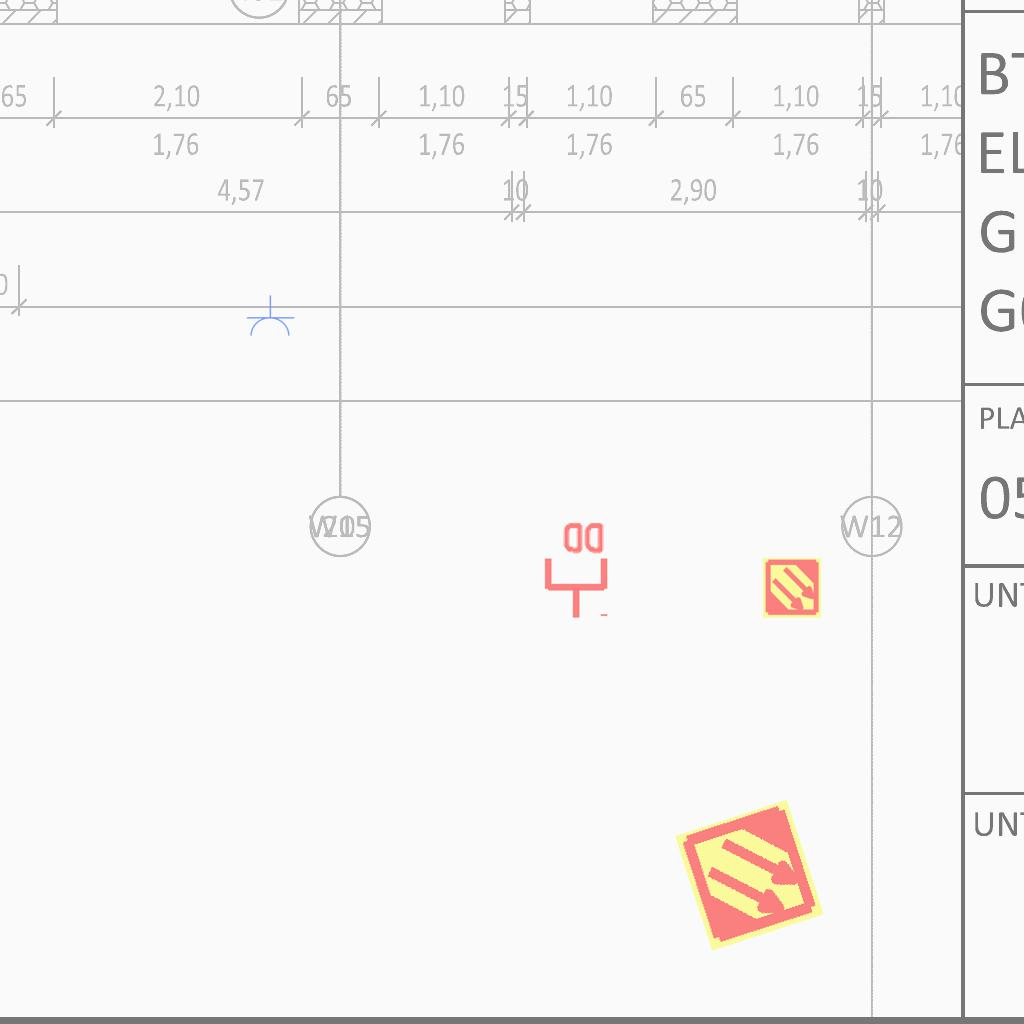ASR_Ansaugrauchmelder: (670, 796, 829, 955), (761, 557, 823, 619)
Datenanschluss_zweifach: (540, 518, 609, 621)
Schukosteckdose_einfach: (245, 295, 295, 338)
